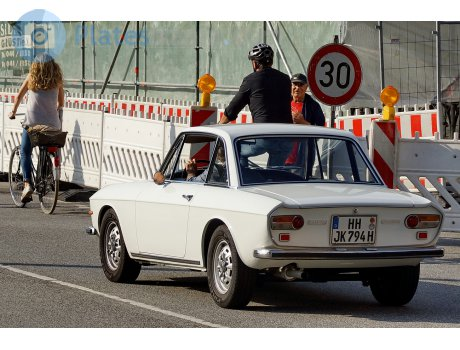License Plates: (333, 211, 372, 248)
